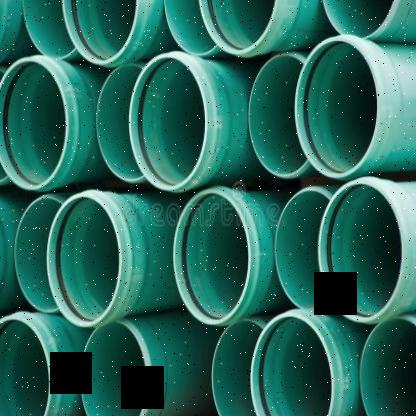pipe: (317, 182, 403, 323), (295, 37, 379, 178), (128, 53, 209, 192), (172, 190, 251, 325), (46, 194, 122, 327), (0, 56, 69, 190), (250, 311, 334, 416), (248, 54, 307, 178), (276, 188, 331, 310), (79, 319, 147, 416), (96, 64, 148, 182), (358, 315, 416, 416), (14, 195, 62, 312), (0, 315, 53, 416), (211, 318, 264, 416), (62, 0, 140, 65), (197, 0, 278, 56), (19, 0, 80, 63), (157, 0, 223, 58), (320, 0, 398, 38)
